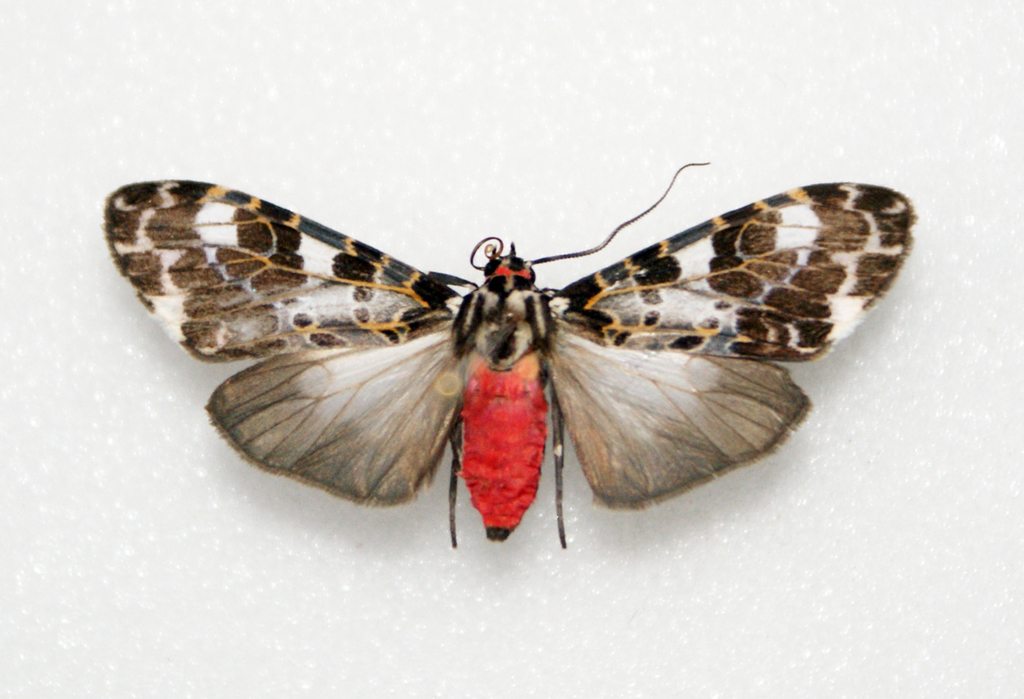Butterfly: (93, 137, 913, 574)
